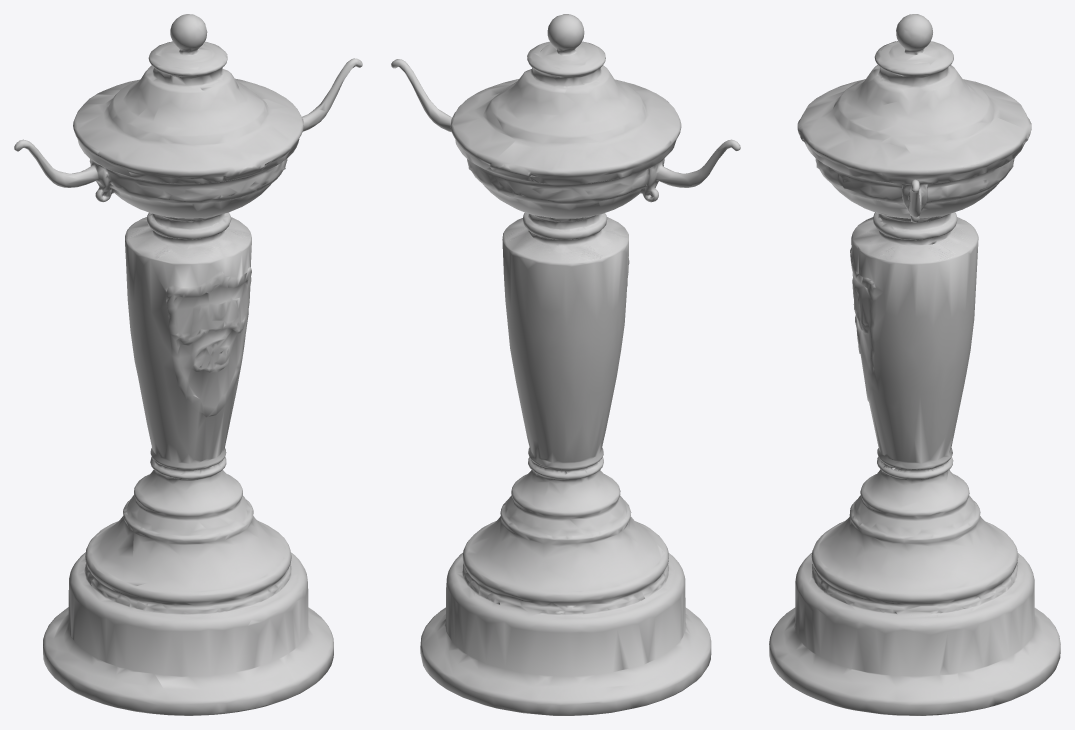
The picture shows the model from 3 angles, left to right: view 1: azimuth 30°, elevation 25°; view 2: azimuth 150°, elevation 25°; view 3: azimuth 270°, elevation 25°; orthographic projection.
Visible parts, largest first — view 1: Mesh_0; view 2: Mesh_0; view 3: Mesh_0.
Boxes of the visible parts, <box> form: Mesh_0: <box>14,14,362,715</box>; Mesh_0: <box>391,14,740,715</box>; Mesh_0: <box>769,14,1060,715</box>.
Bounding box in the file's own units: 25.52 × 45 × 18.51.
1 material, 1 textured.
